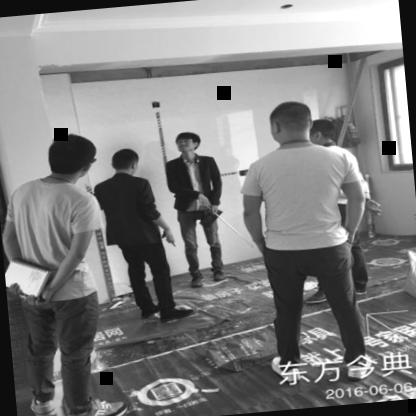head: (40, 126, 104, 188), (263, 96, 318, 152), (104, 146, 147, 180), (305, 114, 341, 150), (173, 130, 208, 156)
